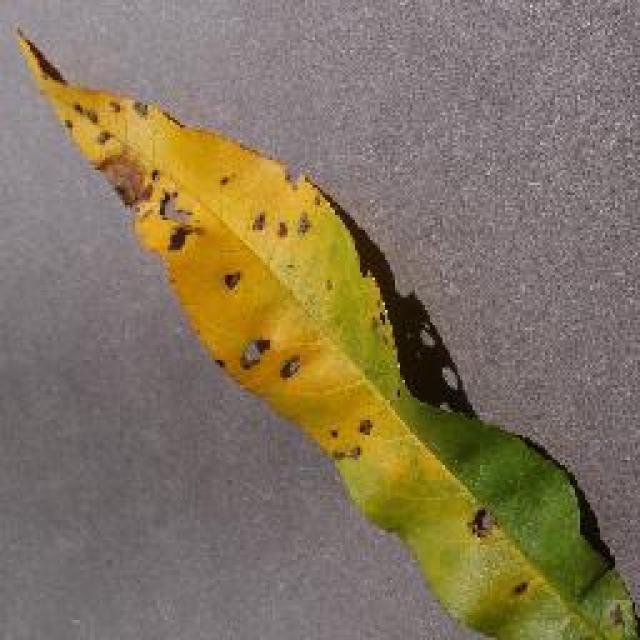Bacterial_spot: (9, 18, 404, 470), (453, 490, 552, 610)
